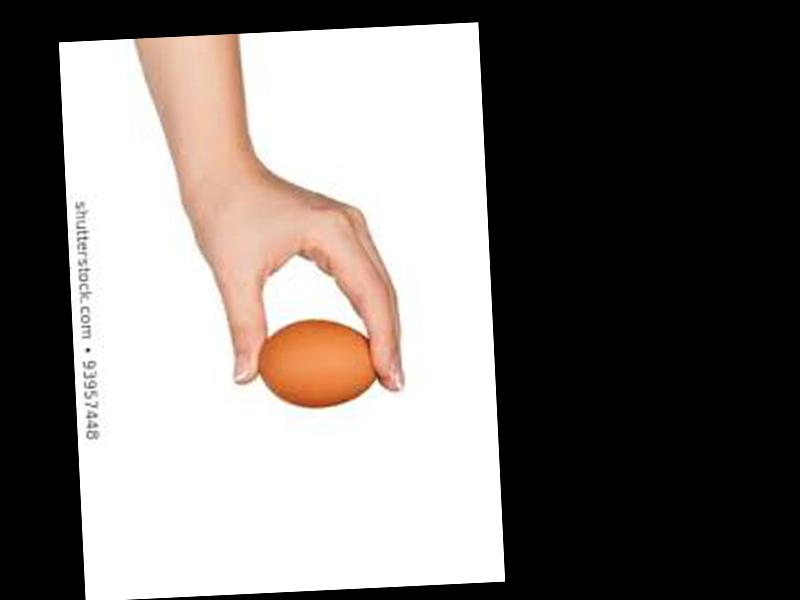Eggs: (255, 318, 385, 410)
